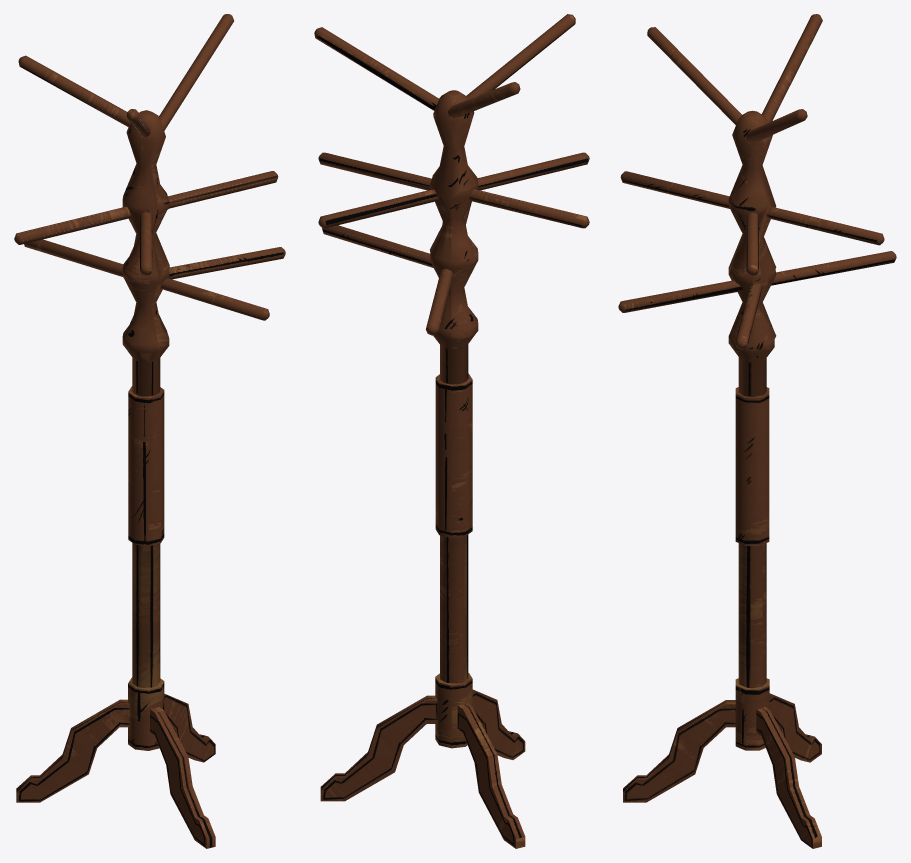
Rendered from Coathanger.glb.
3 renders of one model, left to right at view 1: azimuth 30°, elevation 25°; view 2: azimuth 150°, elevation 25°; view 3: azimuth 270°, elevation 25°, orthographic. The views are drawn at different scales.
Parts seen in each view (by area): view 1: Furniture_CoatHanger_1; view 2: Furniture_CoatHanger_1; view 3: Furniture_CoatHanger_1.
Boxes of the visible parts, x1,y1,x2,y2 form: Furniture_CoatHanger_1: [14, 14, 285, 848]; Furniture_CoatHanger_1: [314, 14, 589, 848]; Furniture_CoatHanger_1: [618, 14, 896, 848].
Bounding box in the file's own units: 0.8222 × 2.21 × 0.7517.
1 material, 1 textured.
